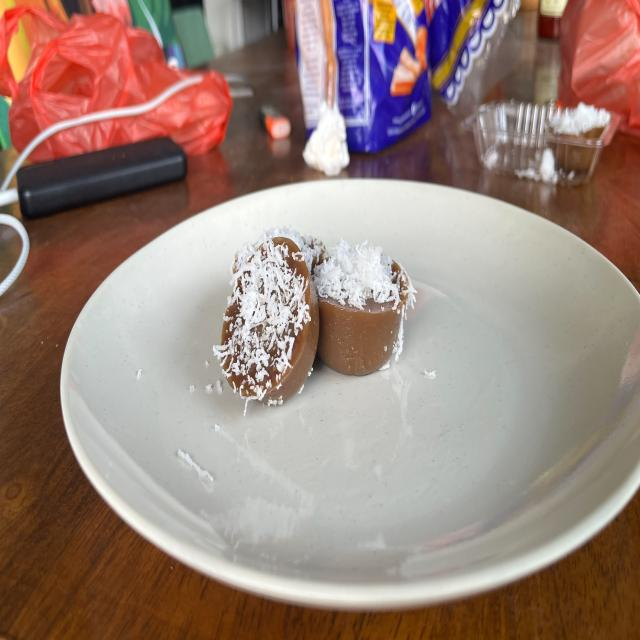Kuih lompang: (212, 233, 319, 404), (312, 240, 415, 376)
